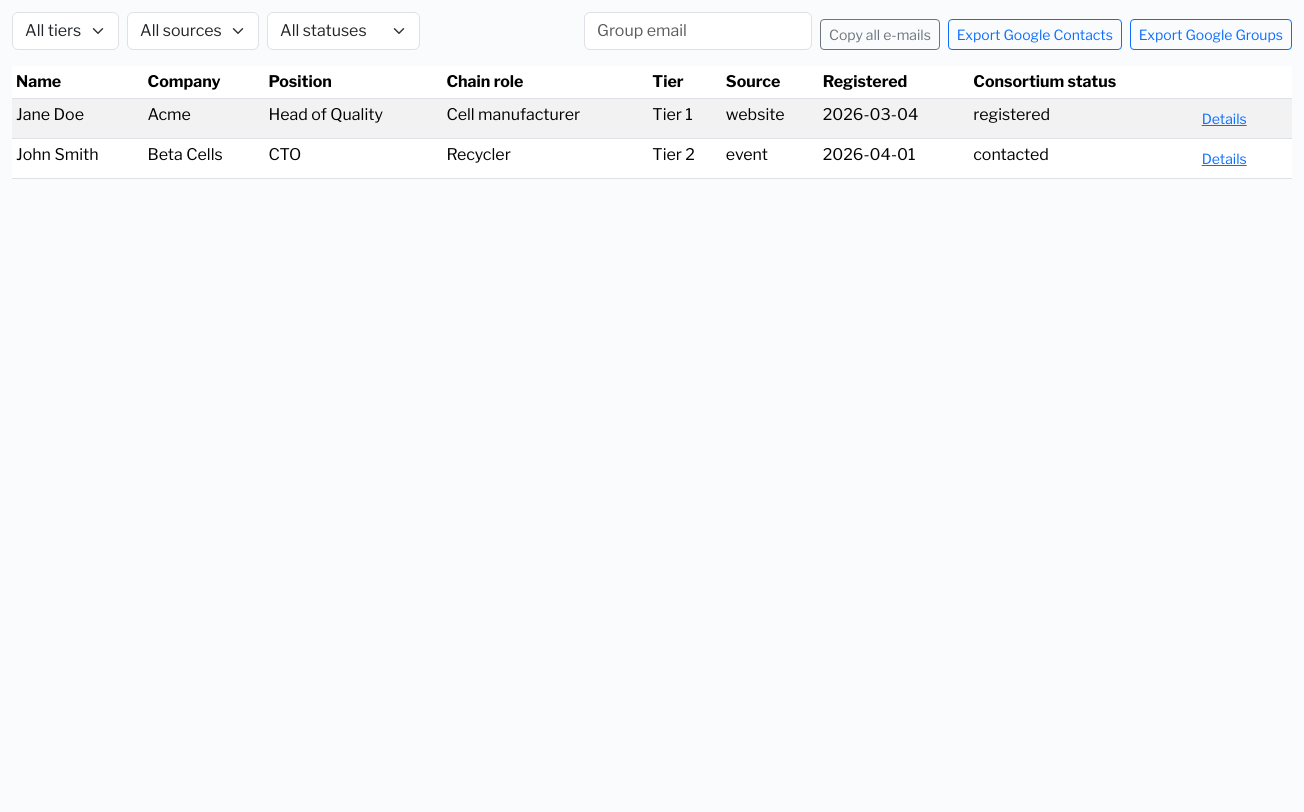
Test: ConsortiumRegistrations › shows the em-dash fallback for a legacy row with no region
The width and height of the screenshot is (1304, 812).
Click the button "Details" in the row of "John Smith": click(1224, 158) [1193,143,1256,174]
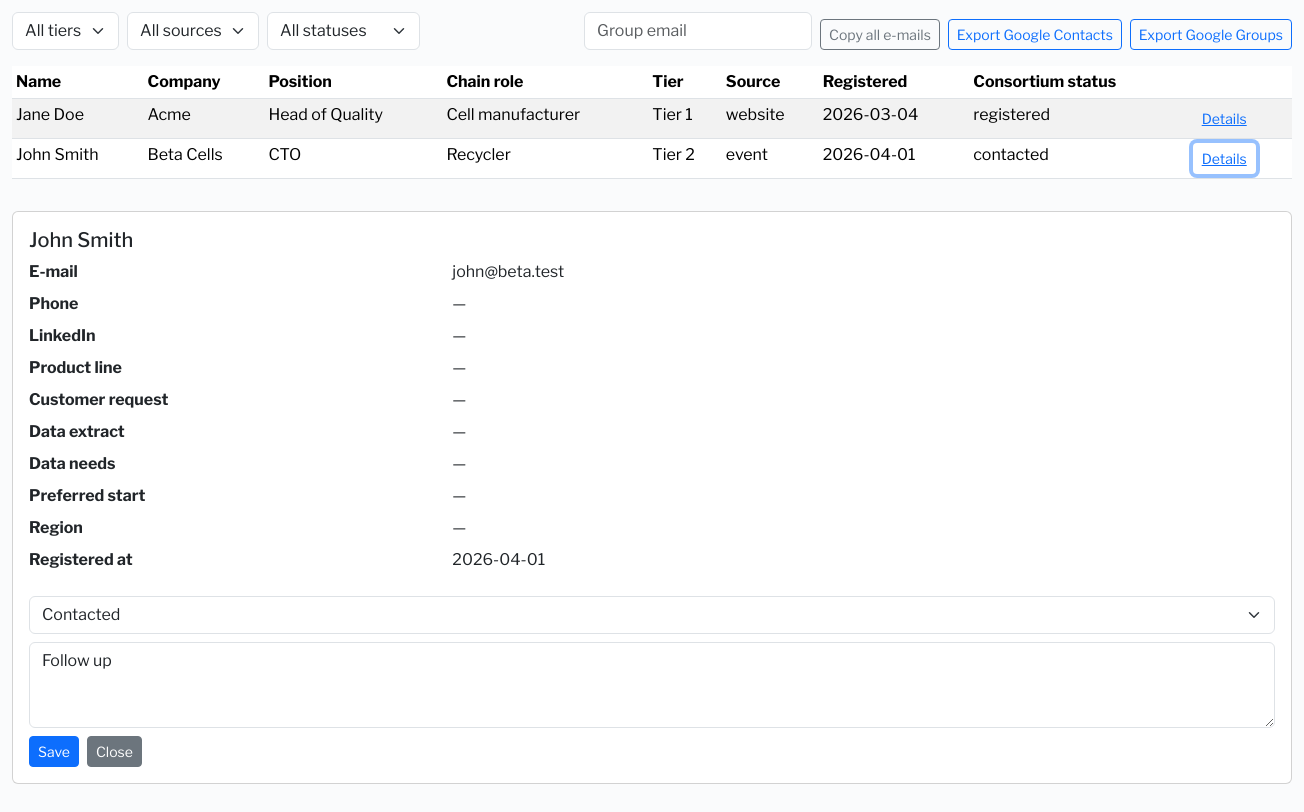
expect the 8th text "—" is shown: met, box [452,518,466,537]
